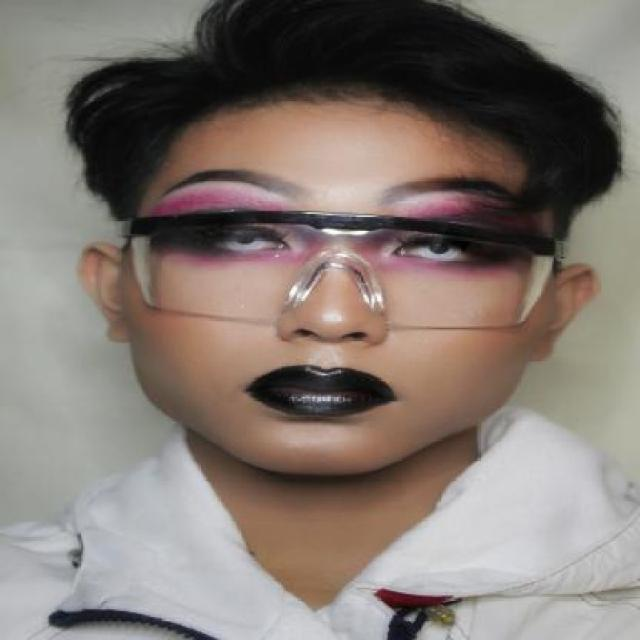Goggles: (106, 196, 577, 344)
